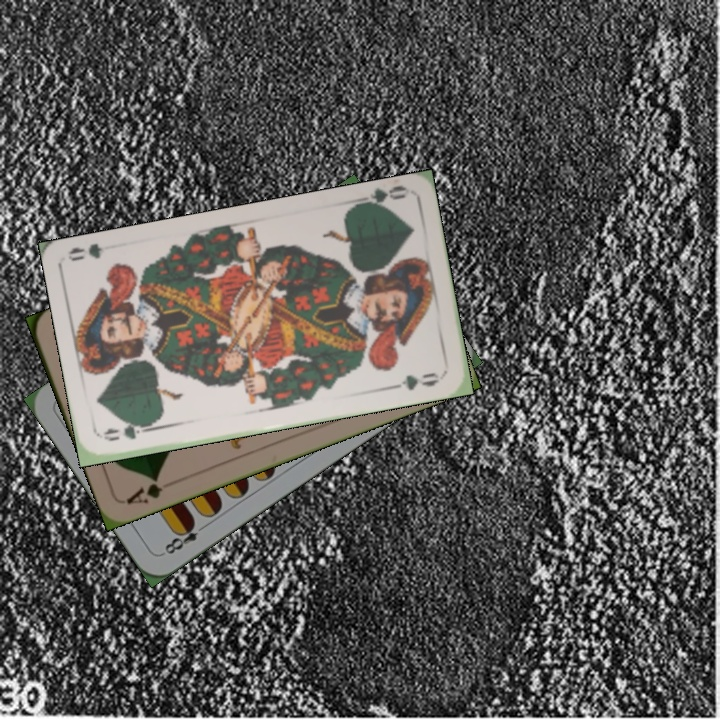E8: (160, 516, 211, 557)
GA: (122, 473, 166, 507)
GO: (350, 182, 409, 212), (99, 417, 159, 444)
